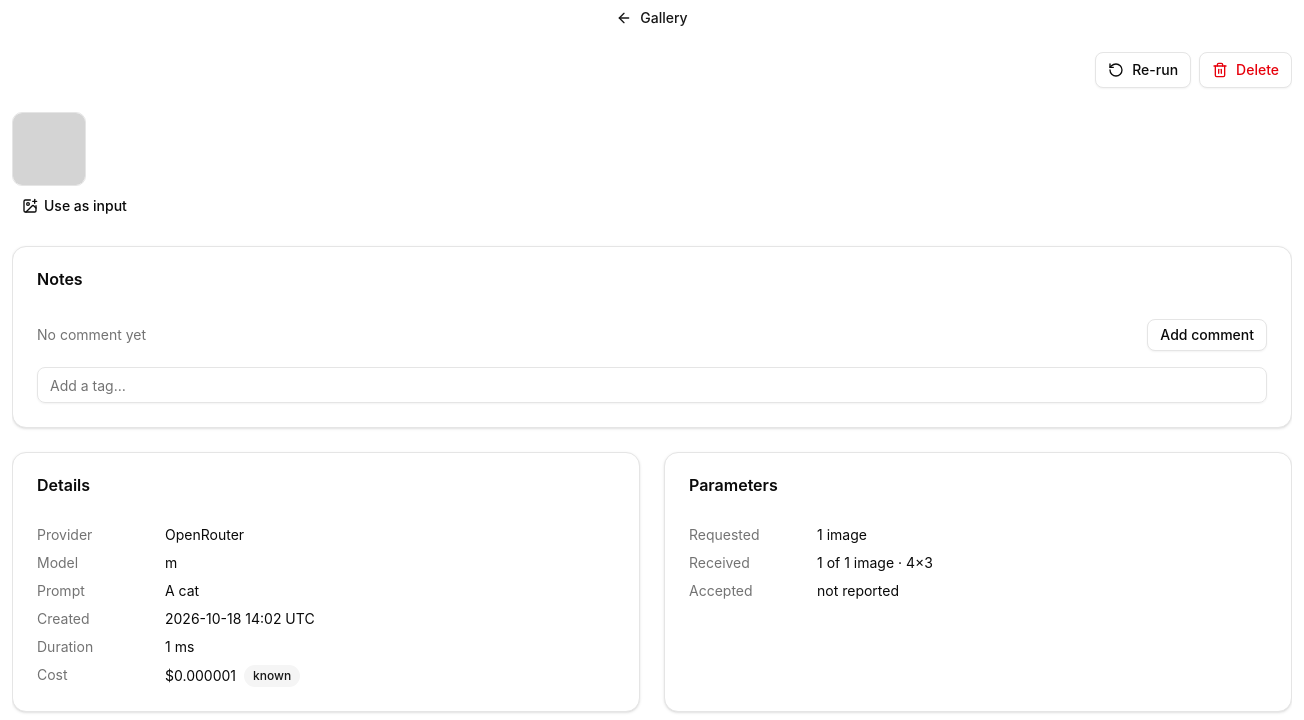
Test: Notes card (SCR-02) › switches to «no longer exists» when the generation was deleted elsewhere
The width and height of the screenshot is (1304, 720).
In the field labelled "Add a tag": (652, 385) [37,367,1267,403], type "late"
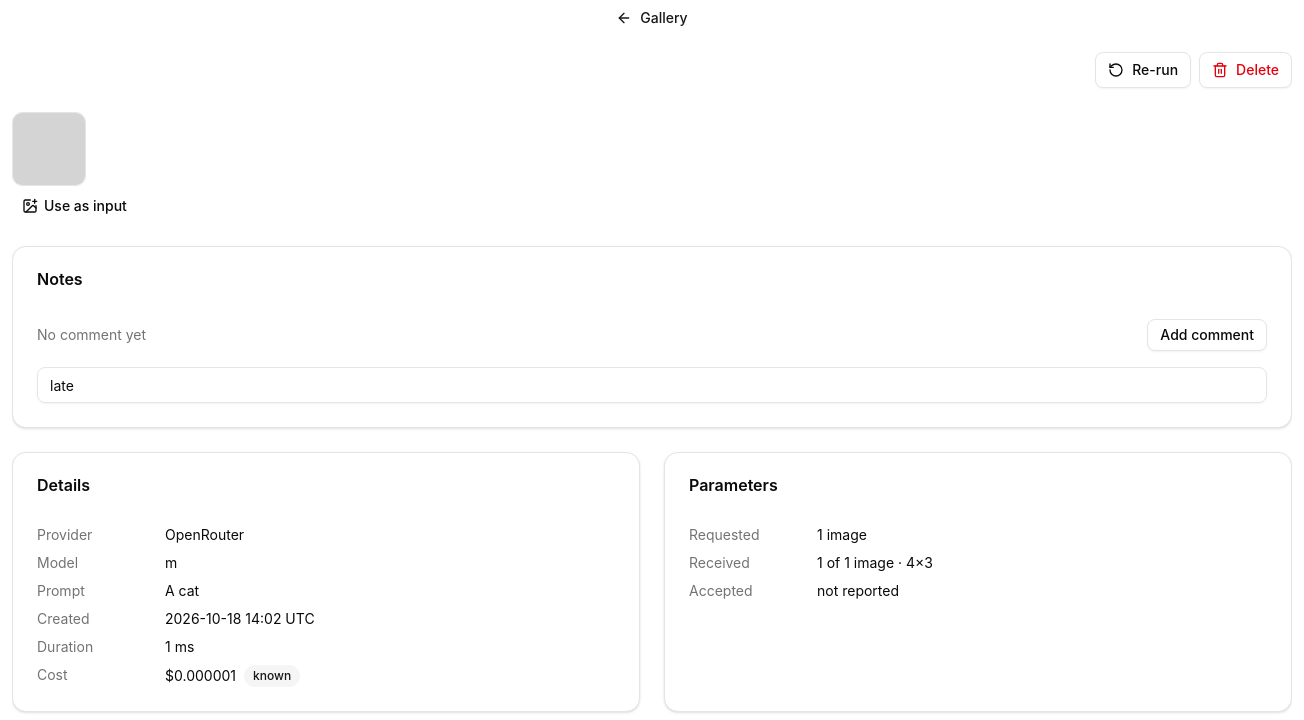
Press Enter in the field named "Add a tag", box [37,367,1267,403]
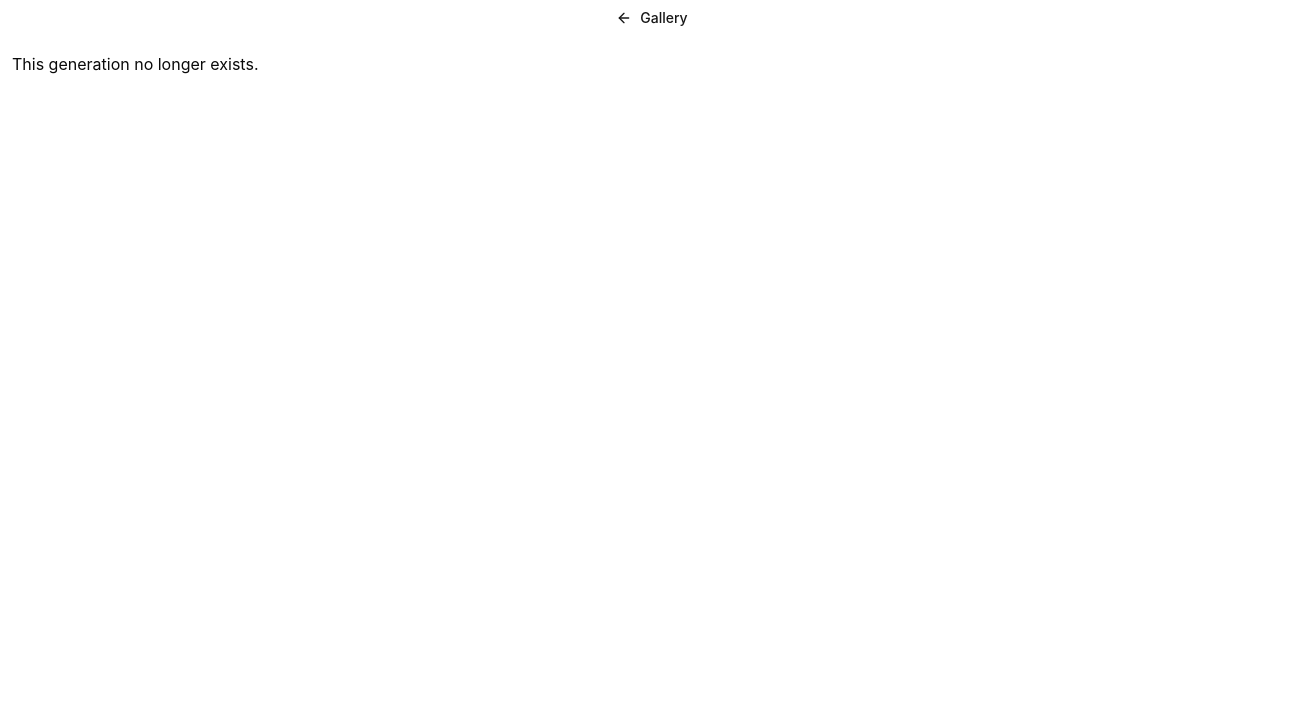
Expected: the text "This generation no longer exists." is shown, [12,54,258,74]
